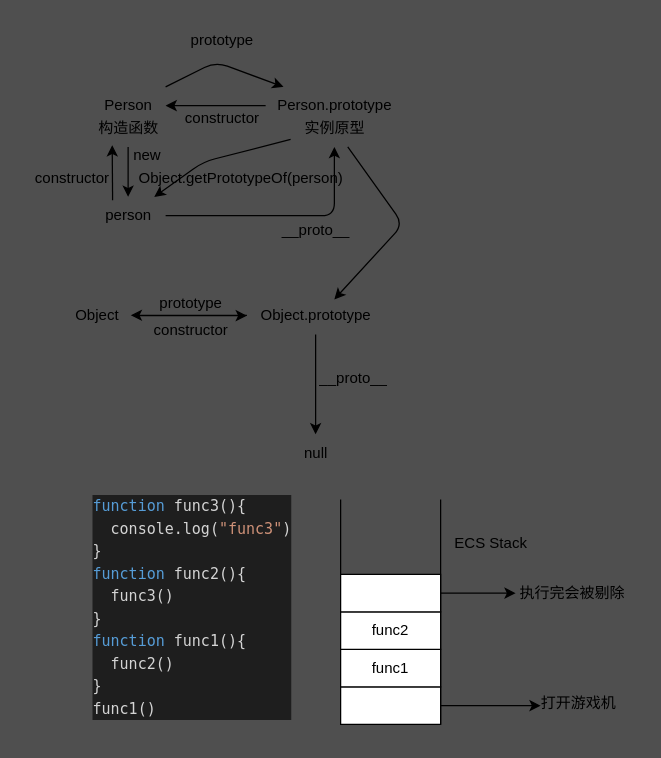
Image size: 661x758. Some labels were removed from this diagram. The centre of each missing label's shape, as x and y in pixels:
"func3" goes at point (390, 592).
"global context" goes at point (390, 705).
